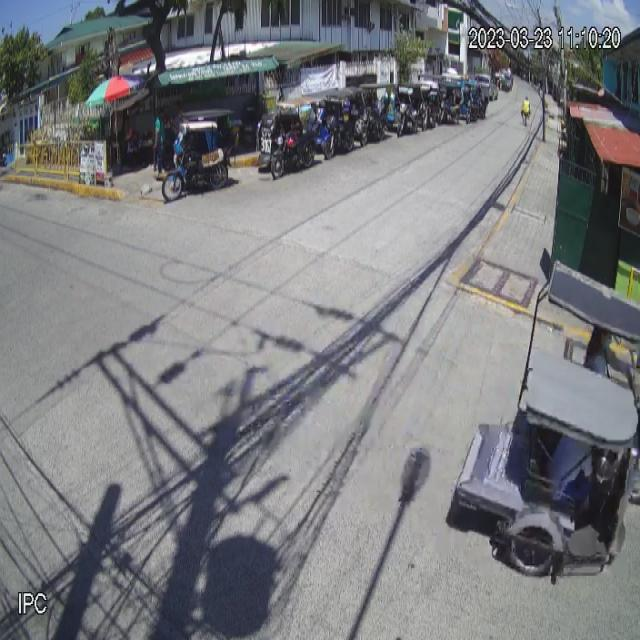Tricycle: (446, 258, 640, 576)
